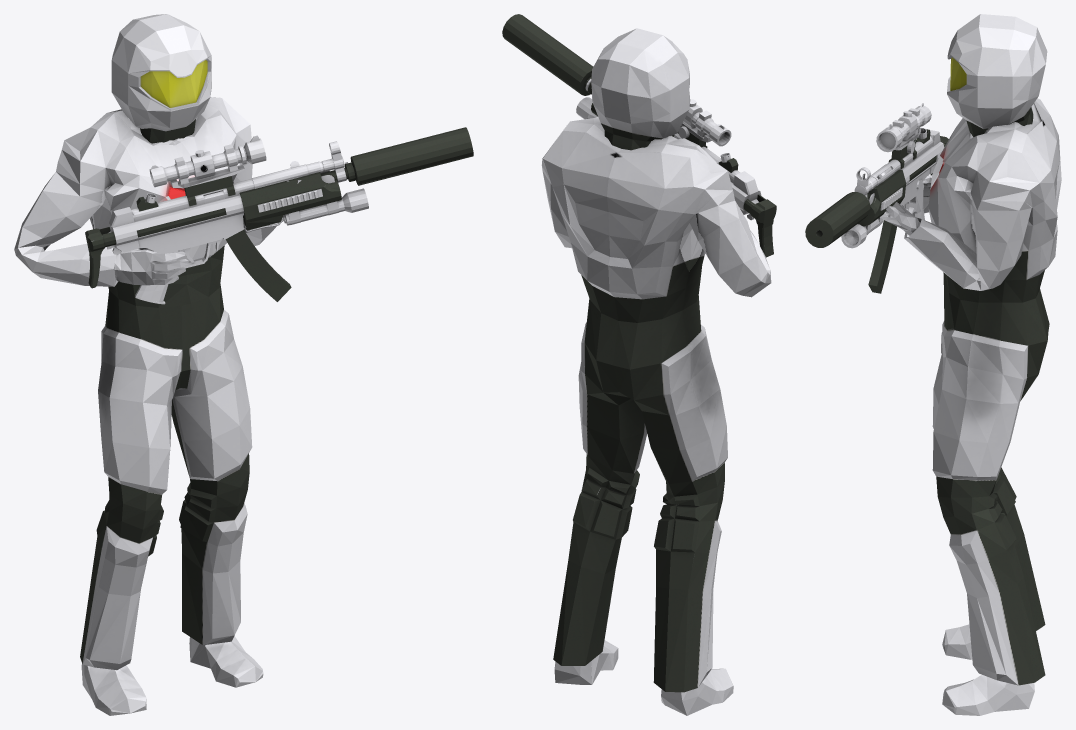
The model's file is attack0.obj.
3 views of the same model, side by side, from view 1: azimuth 30°, elevation 25°; view 2: azimuth 150°, elevation 25°; view 3: azimuth 270°, elevation 25° (orthographic).
Visible parts, largest first — view 1: Male001Skin_001, Object001; view 2: Male001Skin_001, Object001; view 3: Male001Skin_001, Object001.
Boxes of the visible parts, x1,y1,x2,y2 form: Male001Skin_001: [14, 14, 301, 715]; Object001: [85, 127, 473, 304]; Male001Skin_001: [541, 28, 771, 715]; Object001: [502, 14, 776, 257]; Male001Skin_001: [880, 14, 1061, 715]; Object001: [805, 103, 948, 293].
Bounding box in the file's own units: 1063 × 1870 × 662.
Materials: 1 (1 with a texture image).
